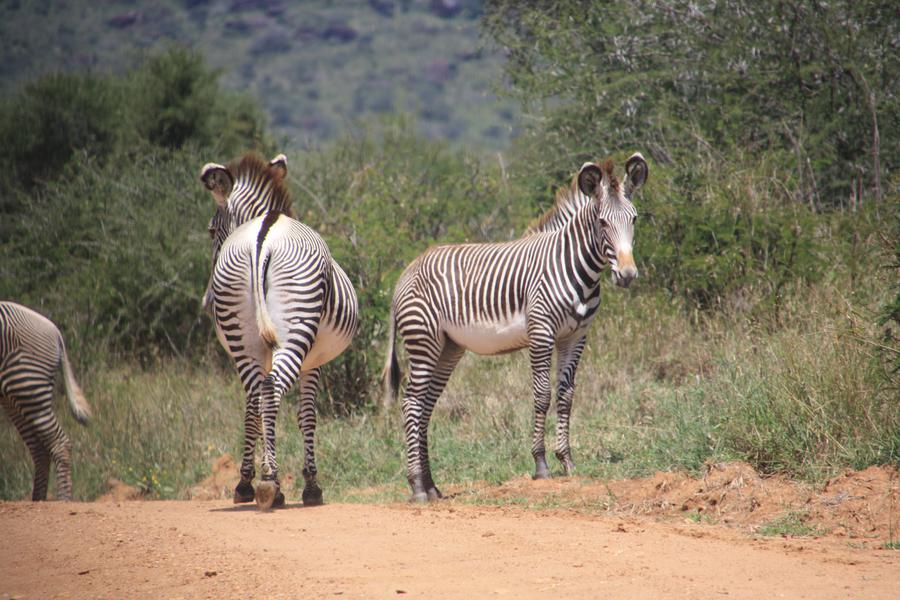zebra_grevys: (388, 231, 573, 336)
